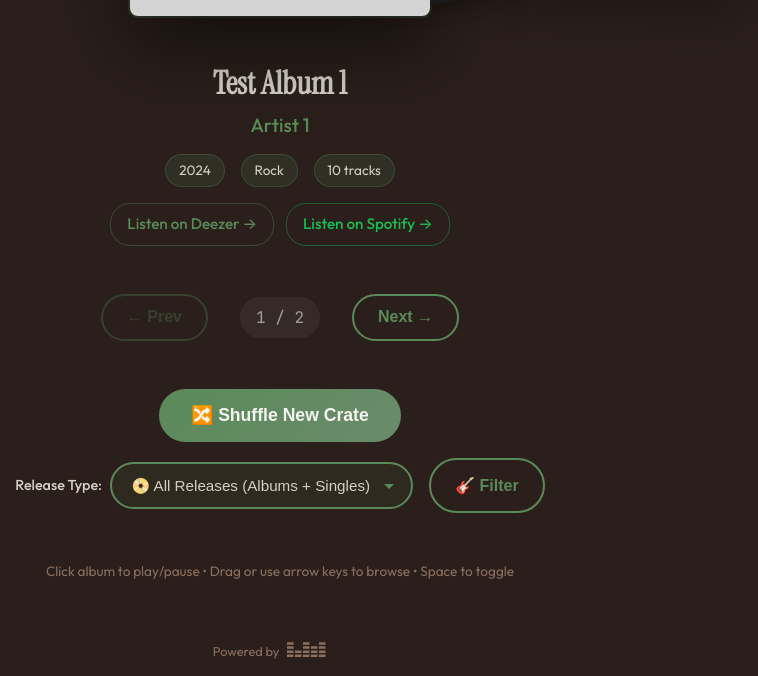
Test: AlbumCrate Component › Genre Filter › should show genre filter panel when filter button clicked
(page scrolled)
Click the button with class "filter-btn". click: (487, 486)
box: [429,458,545,513]
(page scrolled)
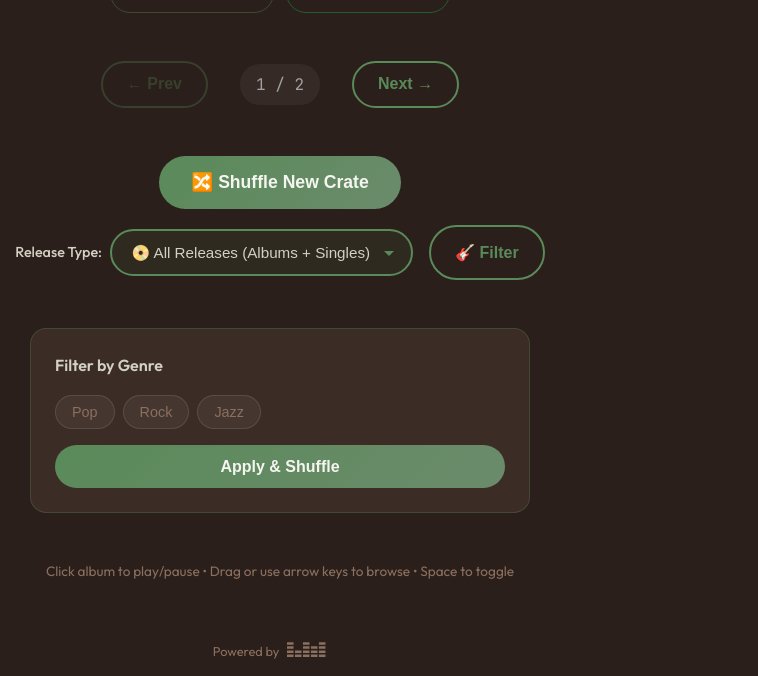
Result: the element with class "genre-filter" is shown at [30,328,530,513]
